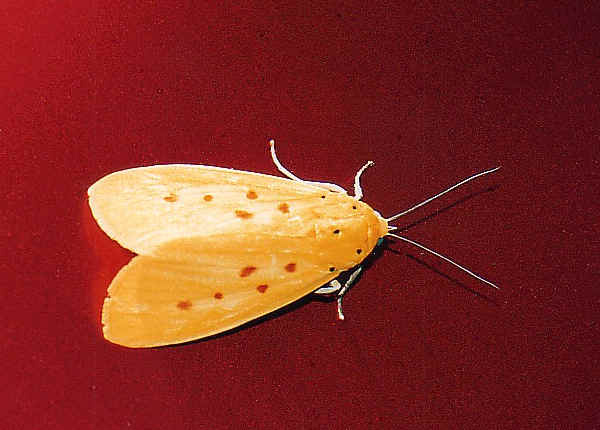Agape chloropyga: (85, 137, 513, 354)
moth: (83, 135, 511, 352)
